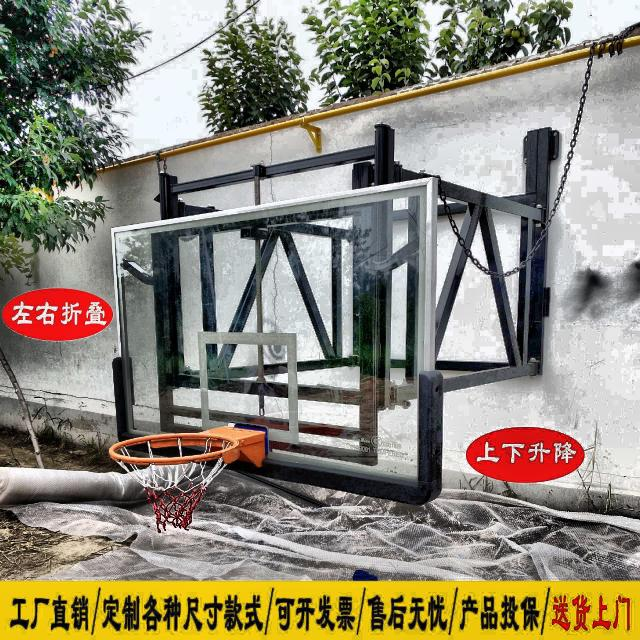rim: (110, 433, 241, 531)
